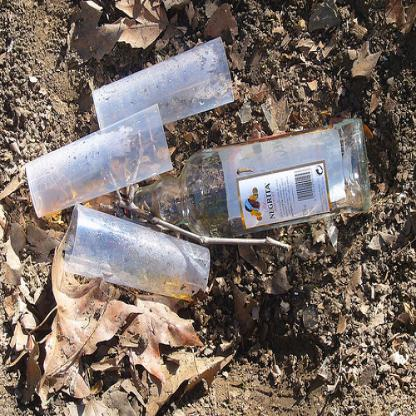bottle: (115, 118, 372, 242)
